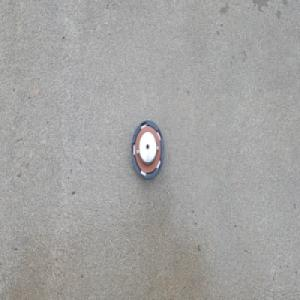FuelCap: (129, 118, 165, 182)
